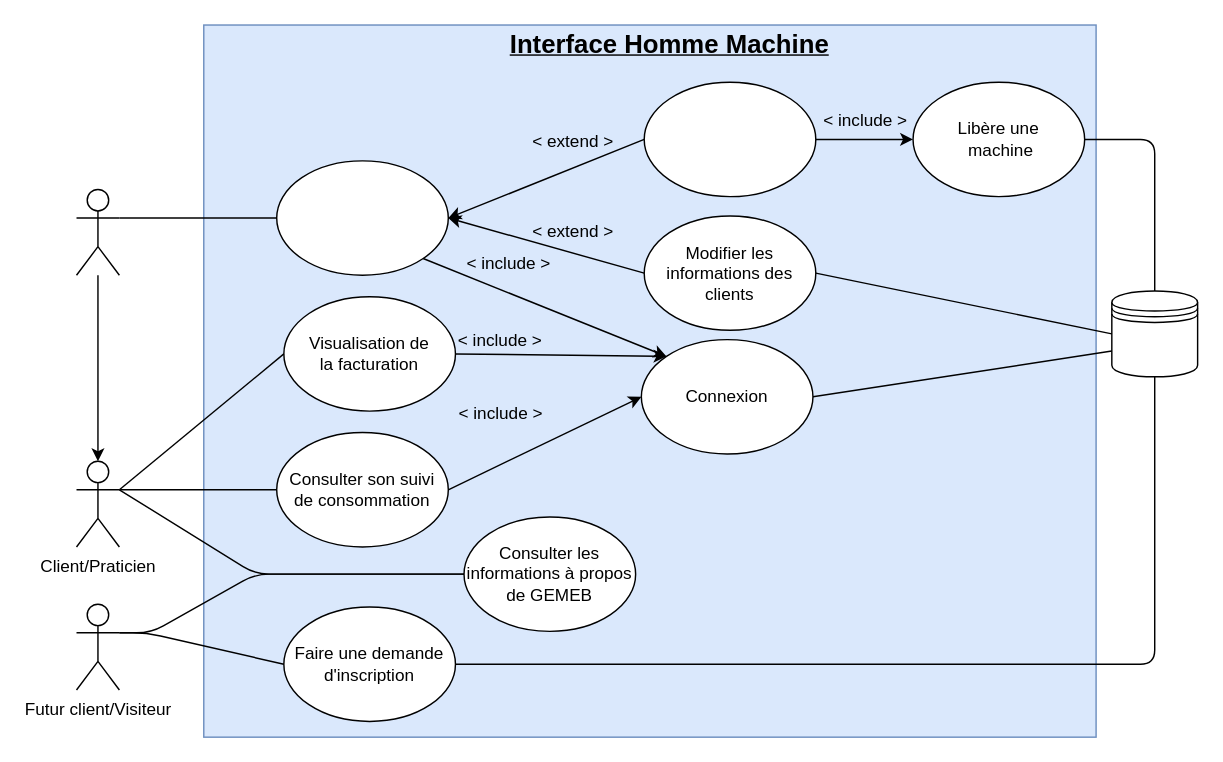
Image size: 1223x762. Some labels were removed from this diagram. The box of each missing label's shape, as (x1, y1, x2, y2) in pixels:
Administrateur: (75, 188, 119, 275)
BDD: (1110, 290, 1198, 377)
Consulter le suivi de consommation de tous les clients: (275, 159, 448, 275)
Désabonner un client: (643, 81, 816, 197)
